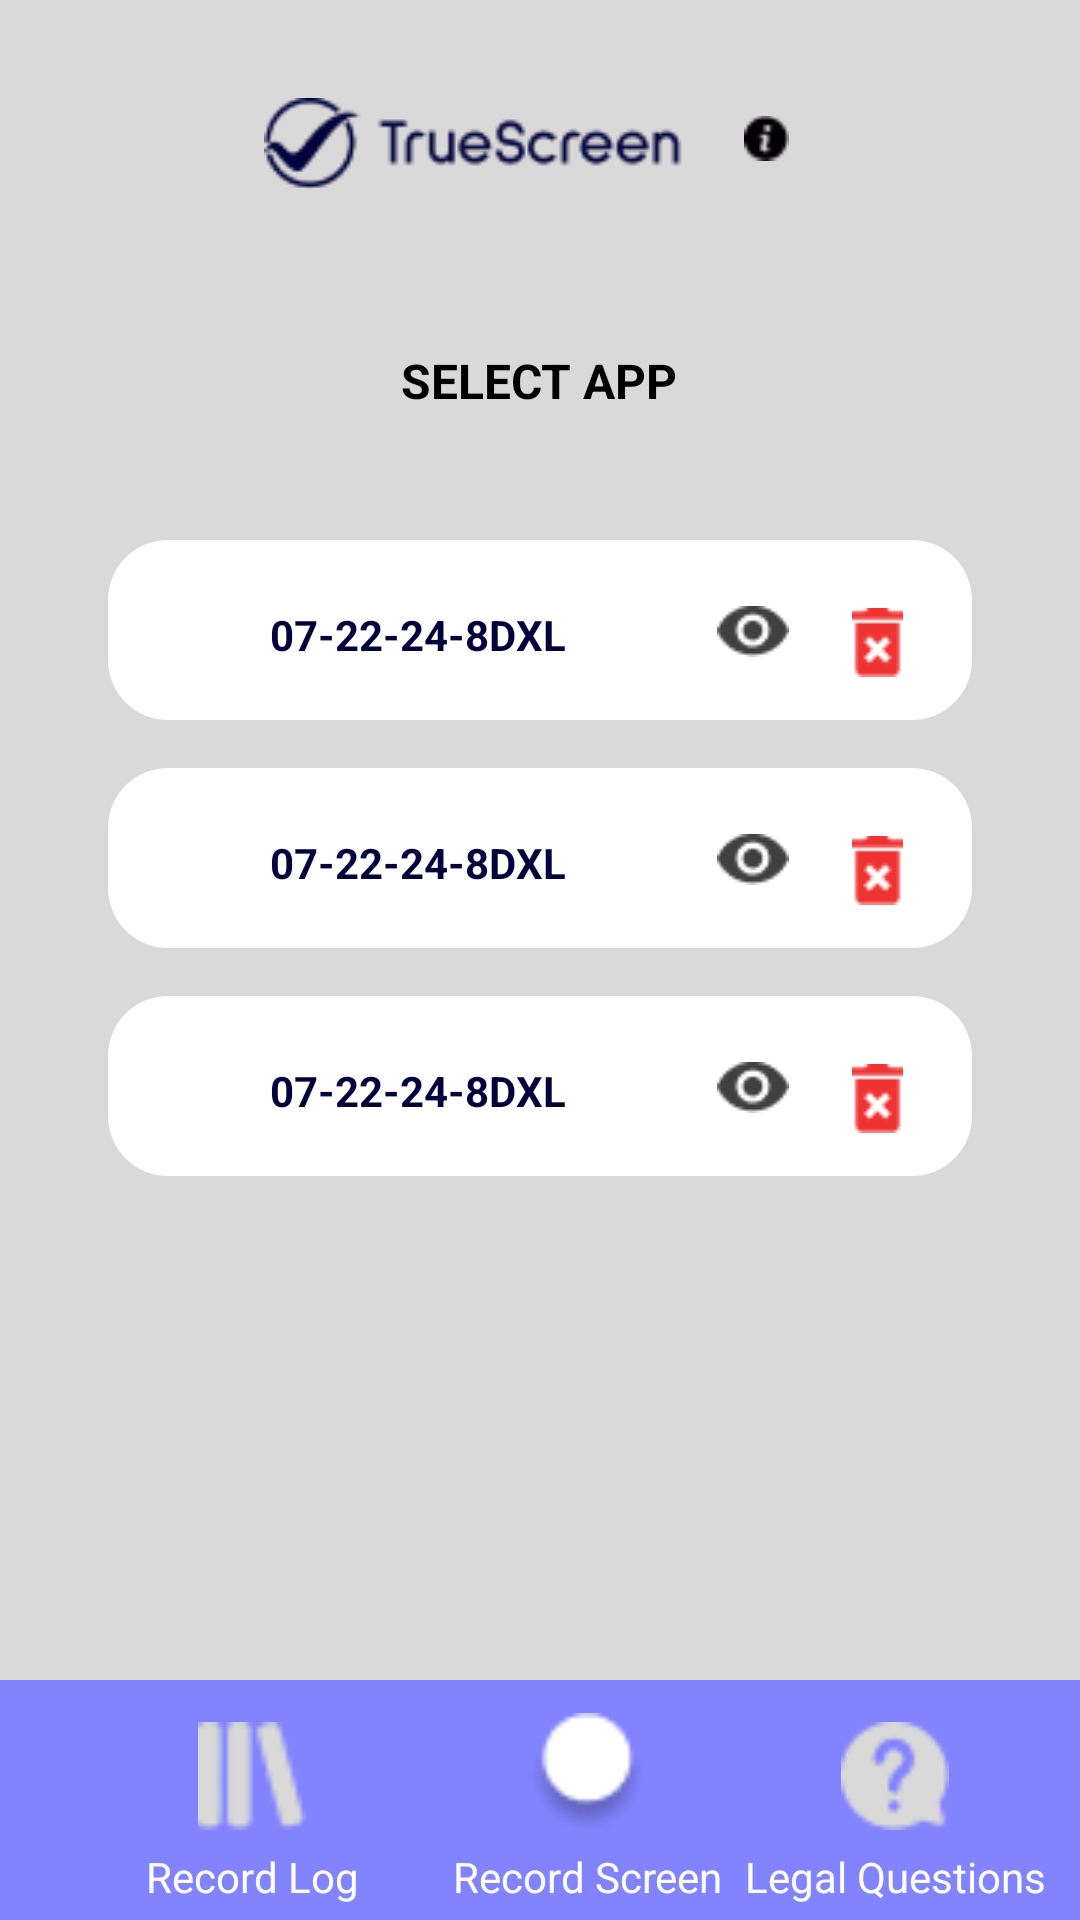

Where to tap for icons on this 1080 × 1920 app screen, as point (x, y):
record bin: point (877, 642), point (877, 870), point (877, 1098)
record eye: point (753, 631), point (753, 859), point (753, 1087)
record page info: point (766, 138)
